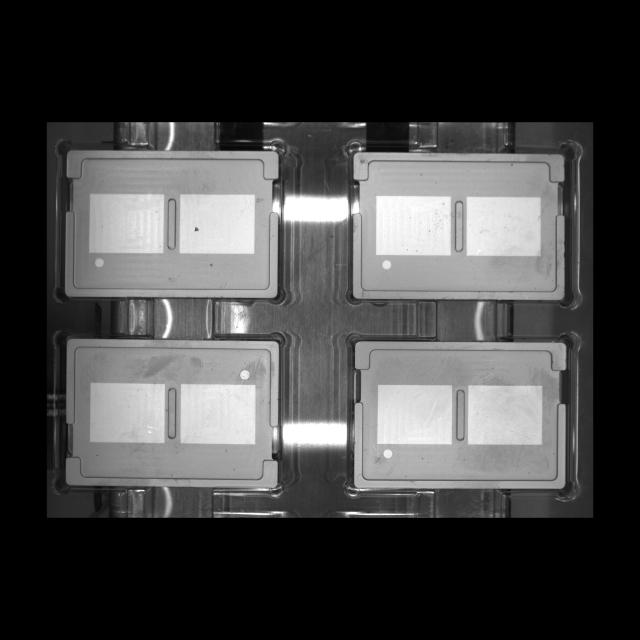product: (342, 330, 585, 503), (51, 324, 290, 499), (342, 139, 582, 313), (55, 139, 288, 308)
